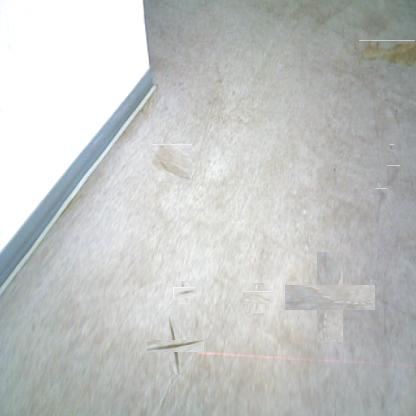liquid: (301, 268, 359, 326), (360, 40, 416, 67), (248, 287, 269, 309)
mark: (153, 144, 192, 182), (157, 328, 193, 364), (375, 188, 387, 225), (386, 165, 400, 186), (176, 284, 193, 301), (331, 164, 337, 172), (390, 144, 394, 151)
